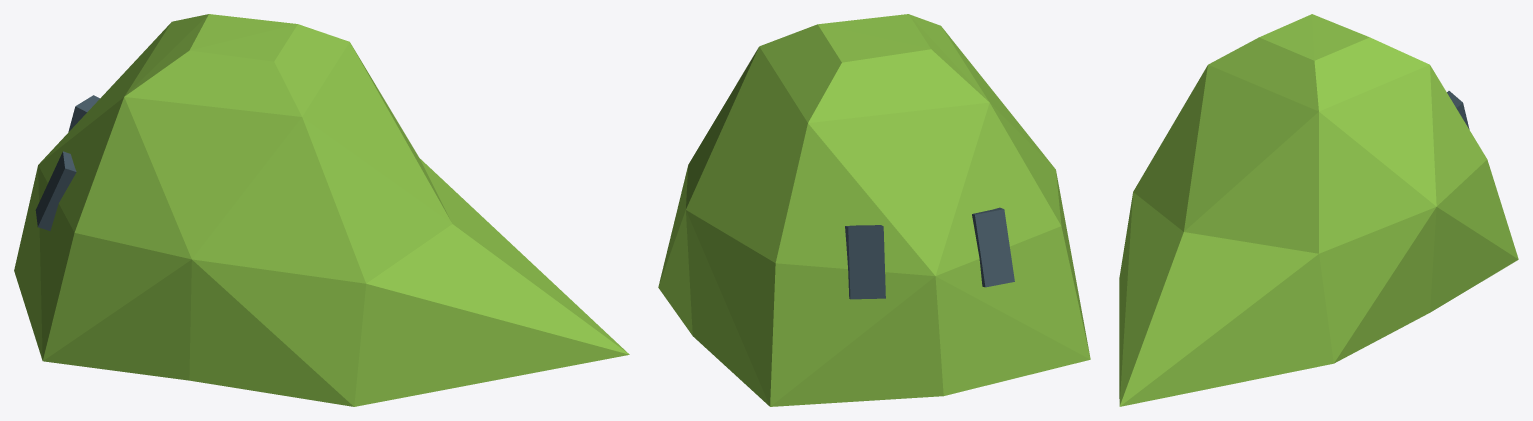
File: Slime.glb
3 renders of one model, left to right at view 1: azimuth 30°, elevation 25°; view 2: azimuth 150°, elevation 25°; view 3: azimuth 270°, elevation 25°, orthographic. The views are drawn at different scales.
Parts seen in each view (by area): view 1: group1953088506, group628414867; view 2: group1953088506, group675558110, group628414867; view 3: group1953088506.
Part boxes in pixels (x1,y1,x2,y2): group1953088506: (14,14,629,406); group628414867: (35,151,76,230); group1953088506: (658,14,1090,406); group675558110: (845,225,885,299); group628414867: (972,207,1014,287); group1953088506: (1119,14,1518,406).
Bounding box in the file's own units: 0.3184 × 0.1915 × 0.27.
